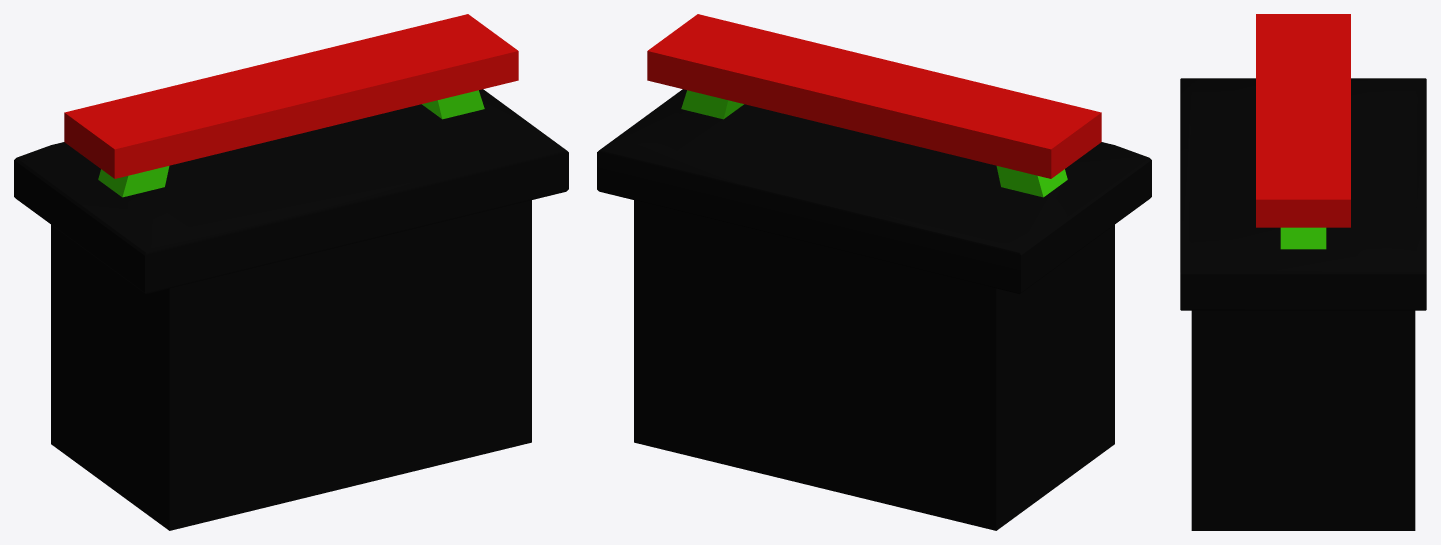
Rendered from AmmoBox.fbx.
The picture shows the model from 3 angles, left to right: view 1: azimuth 30°, elevation 25°; view 2: azimuth 150°, elevation 25°; view 3: azimuth 270°, elevation 25°; orthographic projection. The views are drawn at different scales.
Parts seen in each view (by area): view 1: AmmoBox; view 2: AmmoBox; view 3: AmmoBox.
Boxes of the visible parts, box(x1,y1,x2,y2) form: AmmoBox: box(14, 14, 568, 530); AmmoBox: box(597, 14, 1151, 530); AmmoBox: box(1180, 14, 1426, 530).
Bounding box in the file's own units: 0.9975 × 0.8131 × 0.5332.
